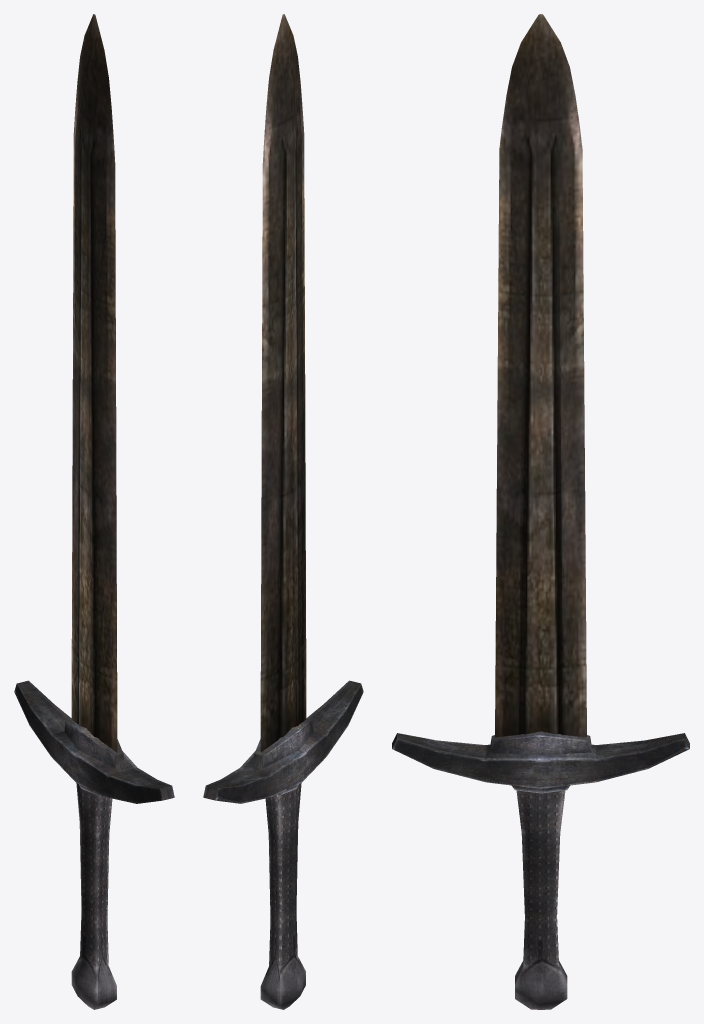
The model's file is weapons_sword04.glb.
The picture shows the model from 3 angles, left to right: view 1: azimuth 30°, elevation 25°; view 2: azimuth 150°, elevation 25°; view 3: azimuth 270°, elevation 25°; orthographic projection.
Visible parts, largest first — view 1: sword04; view 2: sword04; view 3: sword04.
Part boxes in pixels (x1,y1,x2,y2): sword04: (14, 14, 174, 1009); sword04: (203, 14, 363, 1009); sword04: (392, 14, 689, 1009).
Size of the model in its own units: 0.048 by 1.07 by 0.2919.
1 material, 1 textured.
